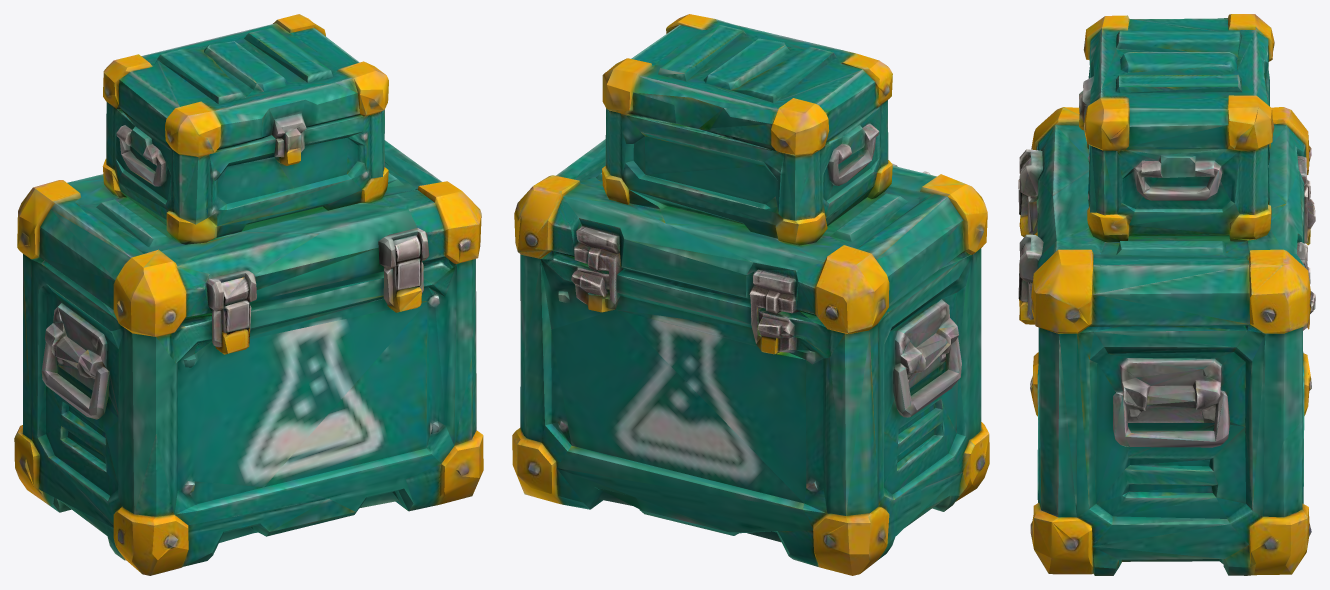
The model's file is prop_crate.glb.
3 views of the same model, side by side, from view 1: azimuth 30°, elevation 25°; view 2: azimuth 150°, elevation 25°; view 3: azimuth 270°, elevation 25° (orthographic).
Bounding box in the file's own units: 1.71 × 1.9 × 1.17.
1 material, 1 textured.
